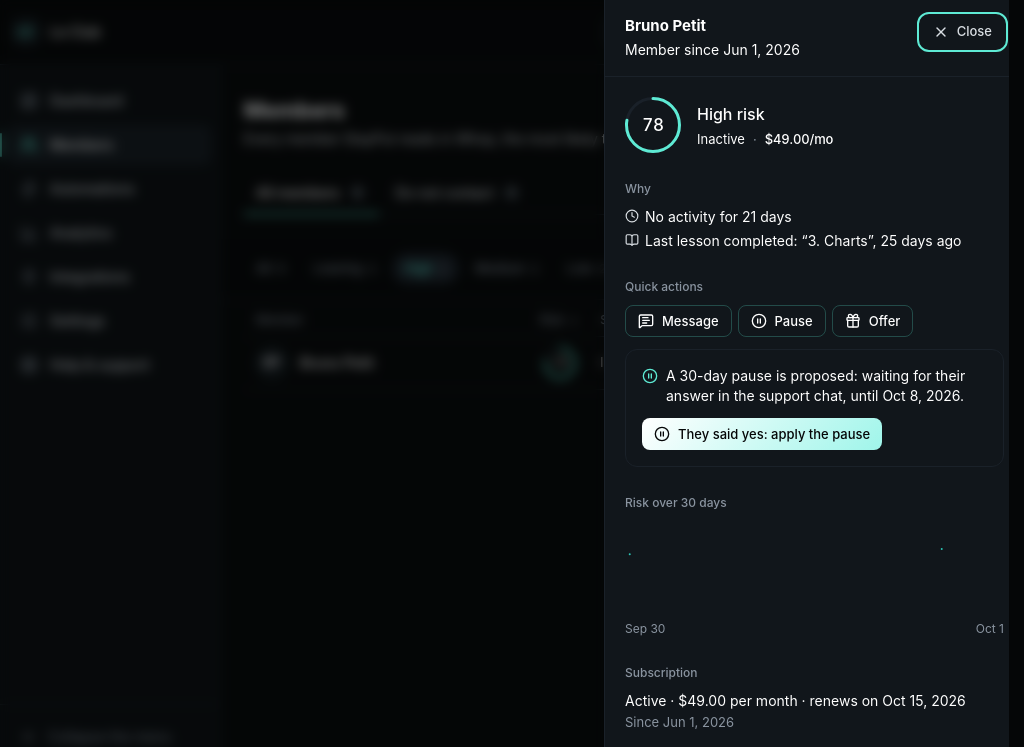
Scenario: creator view › applies, in one click, the pause a member said yes to in the support chat
Expected: the text "A 30-day pause is proposed: waiting for their answer in the support chat, until" is shown, [666,367,965,404]
What coordinates should you click on to do the following:
click the button "They said yes: apply the pause"
I would click on:
 (762, 434)
Its box is [642,418,882,450].
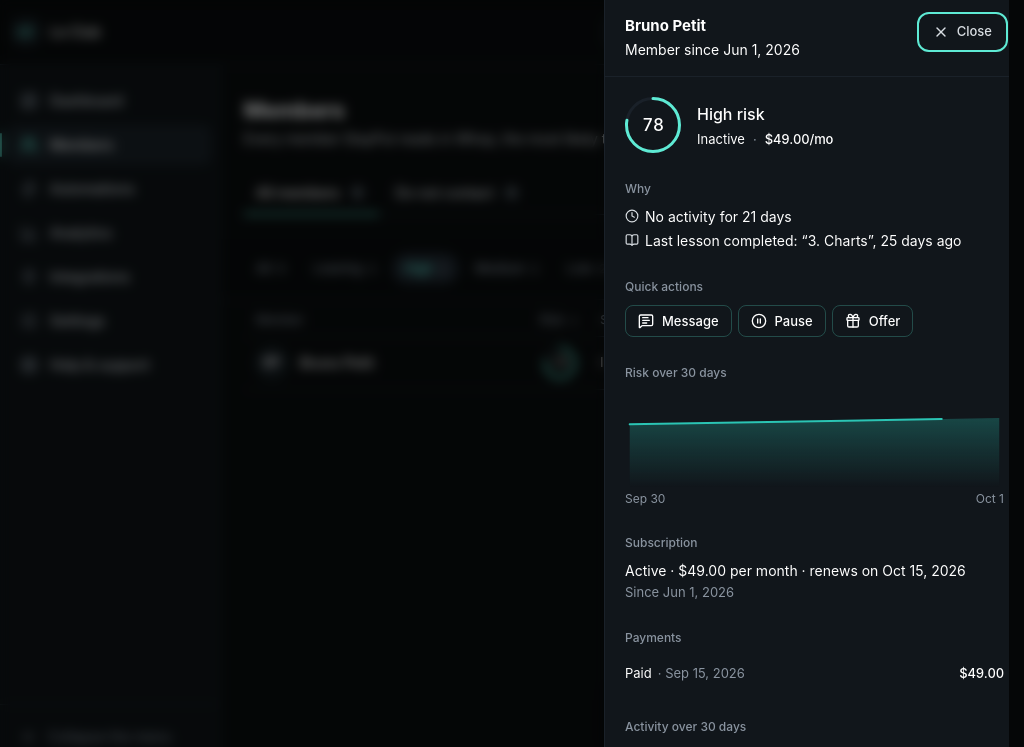
Expected: the text "Tell them in the support chat: it is done." is shown, [659,709,957,729]
Expected: the button "They said yes: apply the pause" is gone
